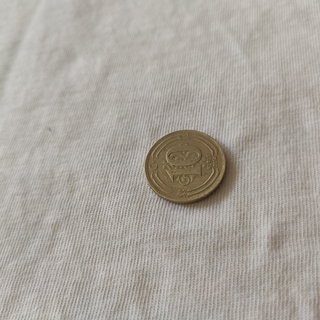10KURUS: (144, 128, 229, 205)
